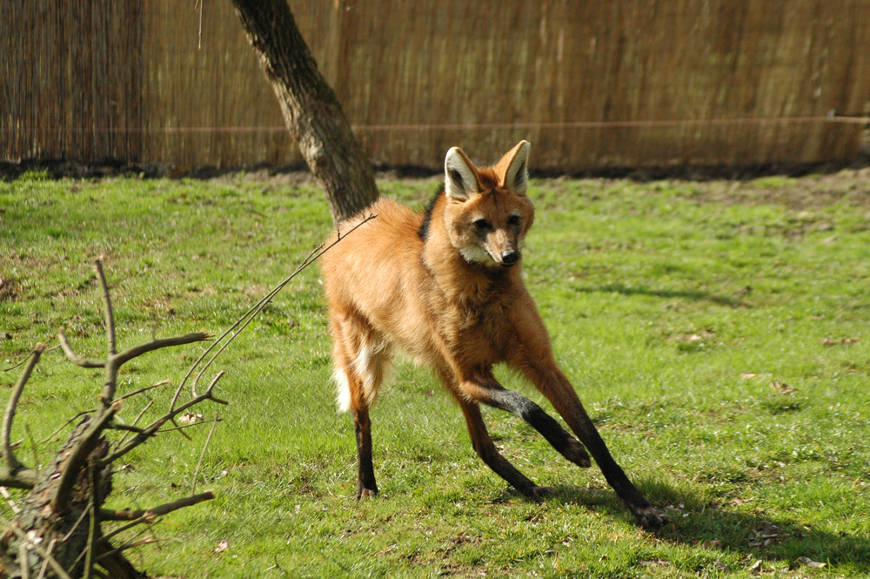LoboGuara: (303, 145, 703, 533)
